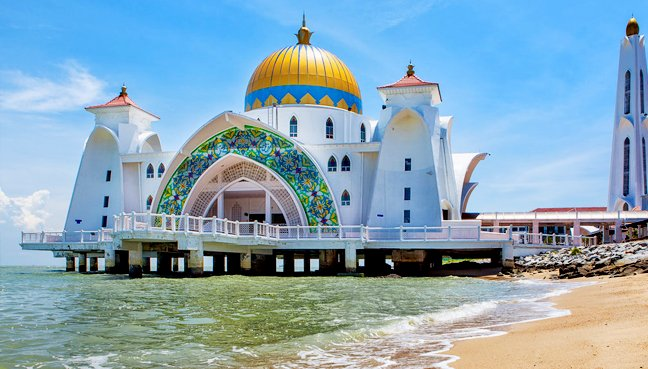Mosque: (98, 36, 471, 261)
